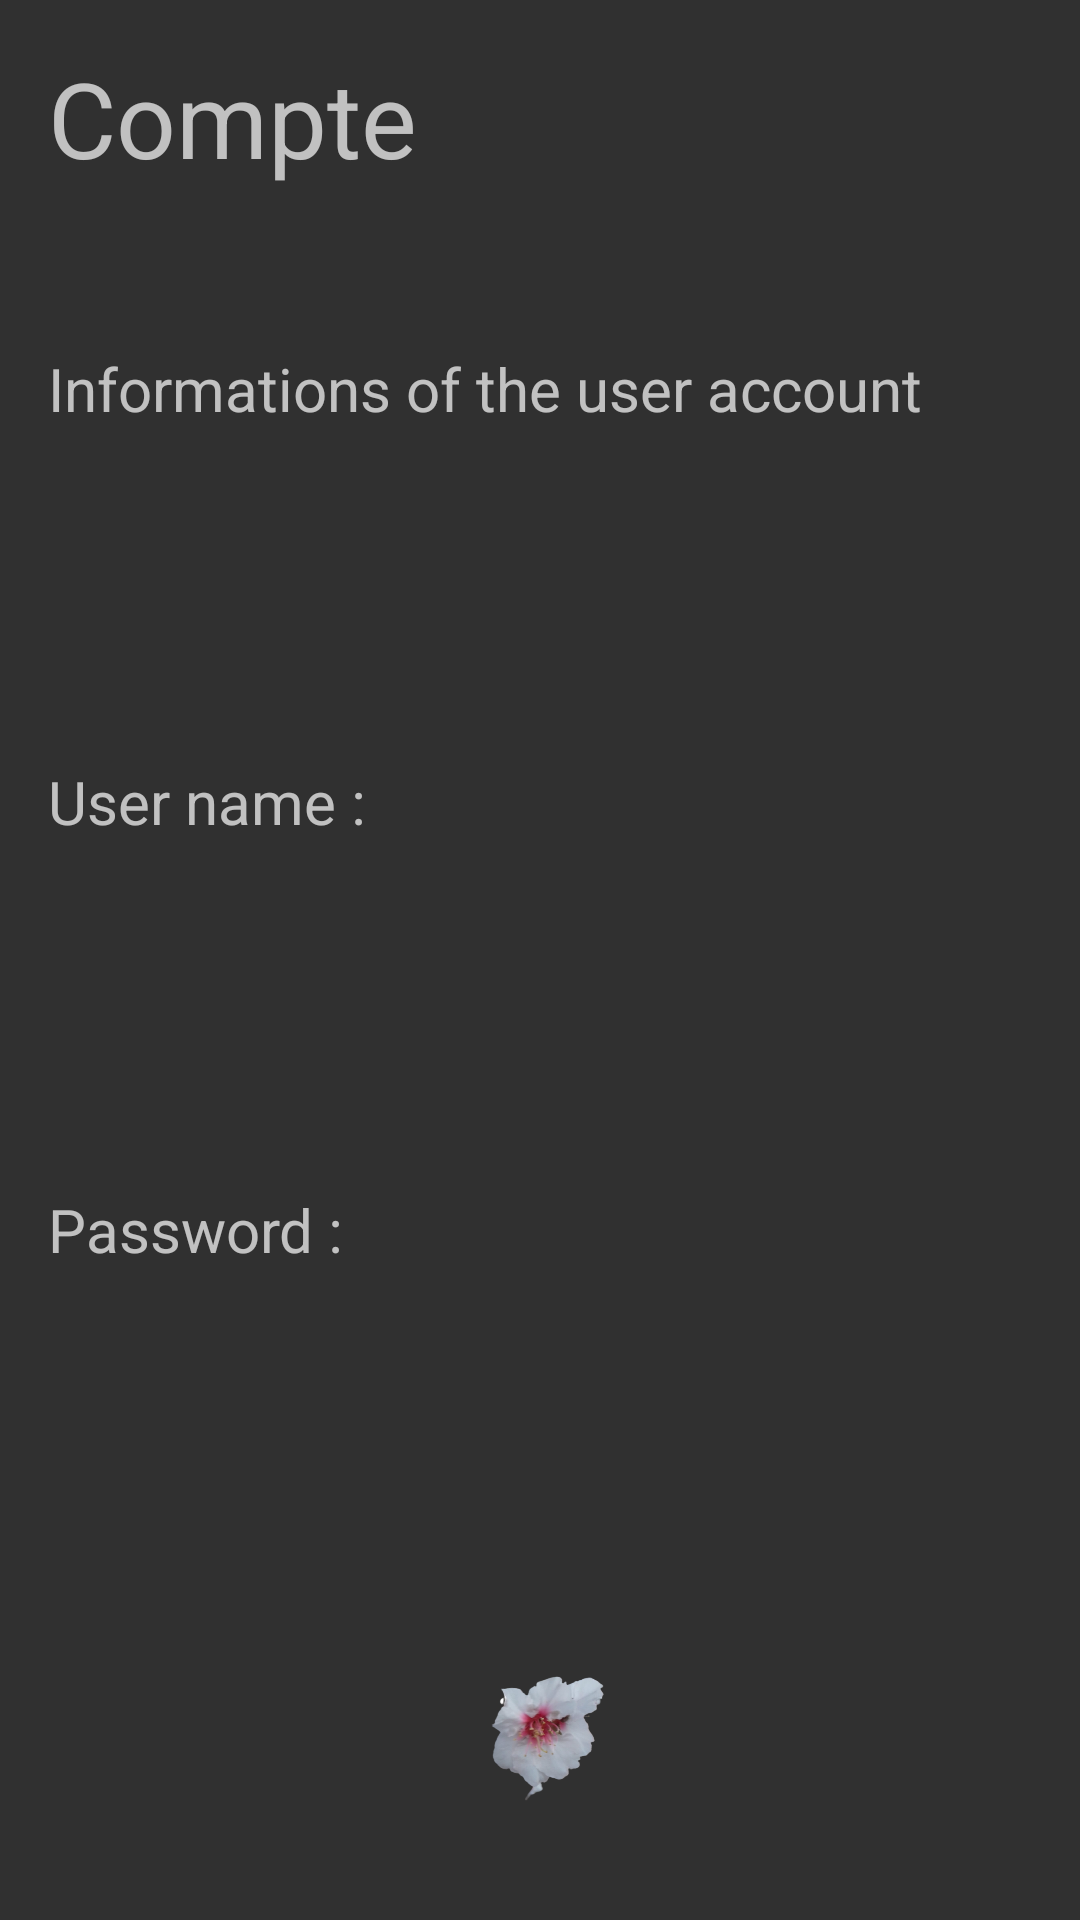

Named icons in this screenshot (1080px×1920px) and their bounding boxes, (x1, y1, x2, y2):
louz: (492, 1676, 604, 1800)
